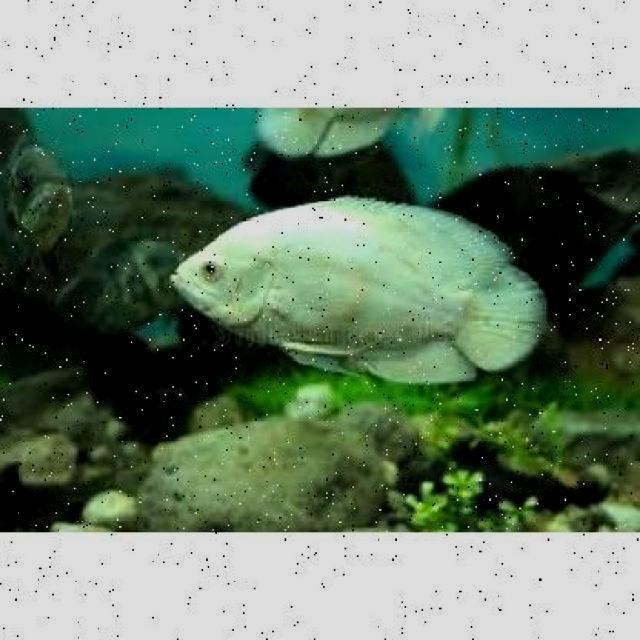gurame: (166, 197, 545, 385)
